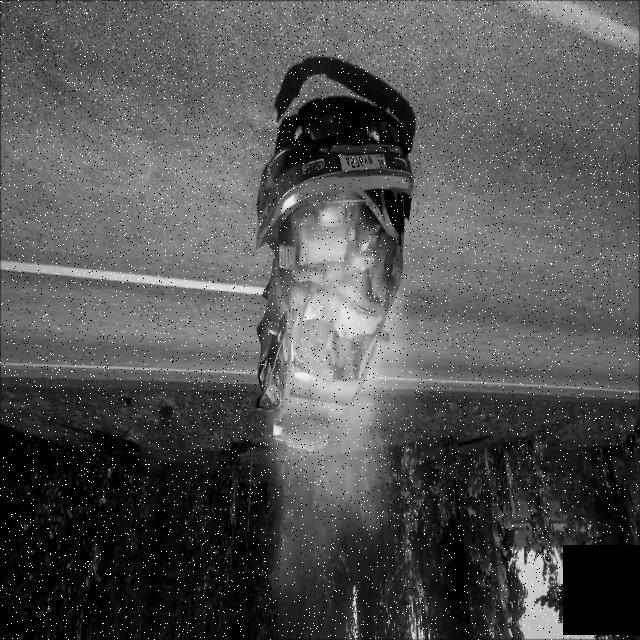severe: (251, 98, 417, 456)
